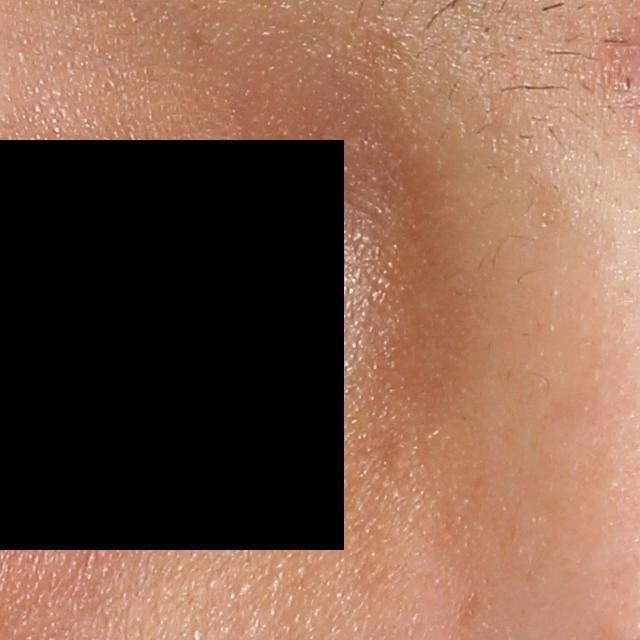melasma: (450, 586, 484, 629)
